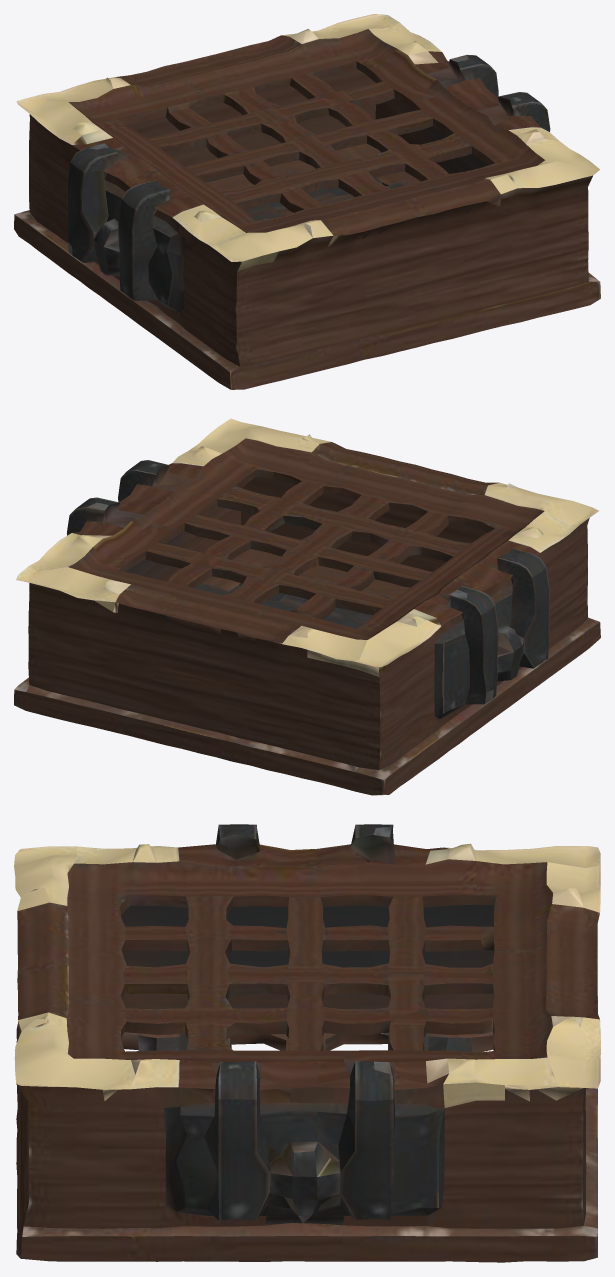
Rendered from ecoutille.glb.
The picture shows the model from 3 angles, top to bottom: view 1: azimuth 30°, elevation 25°; view 2: azimuth 150°, elevation 25°; view 3: azimuth 270°, elevation 25°; orthographic projection. The views are drawn at different scales.
Visible parts, largest first — view 1: ecoutille; view 2: ecoutille; view 3: ecoutille.
Boxes of the visible parts, x1,y1,x2,y2 form: ecoutille: [14, 14, 600, 389]; ecoutille: [14, 418, 600, 795]; ecoutille: [14, 824, 600, 1262].
Size of the model in its own units: 2 by 0.672 by 1.78.
1 material, 1 textured.
